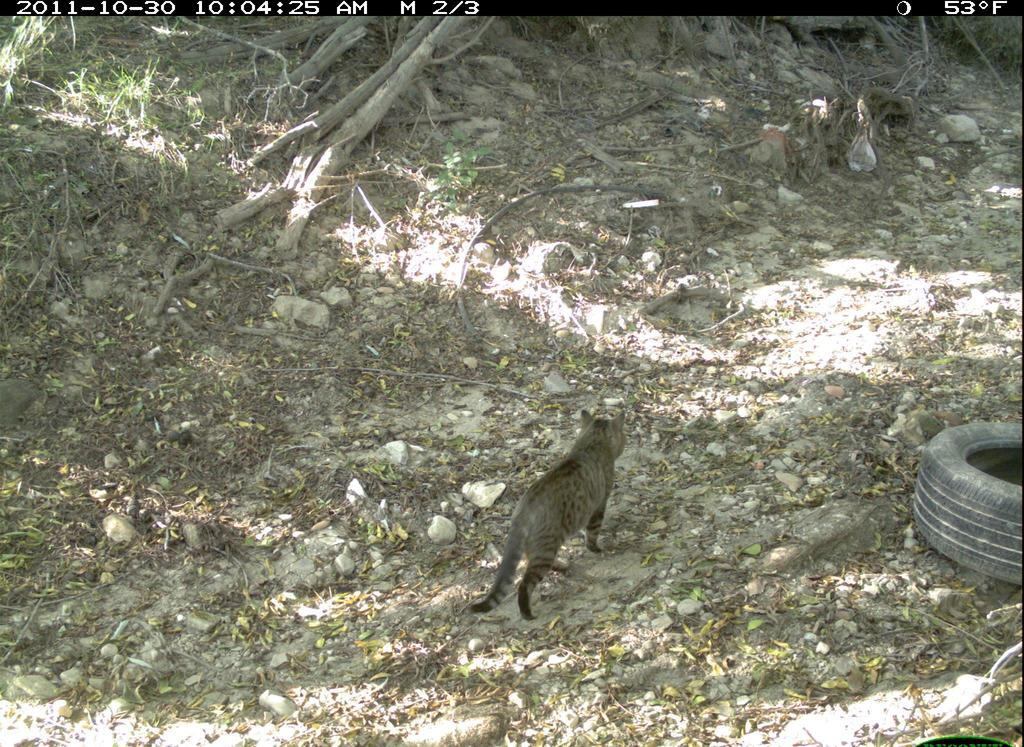cat: (469, 408, 634, 625)
